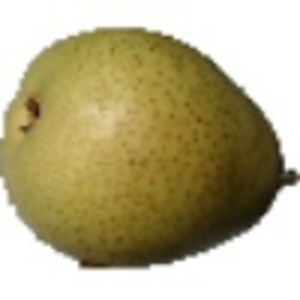pera: (1, 25, 300, 272)
